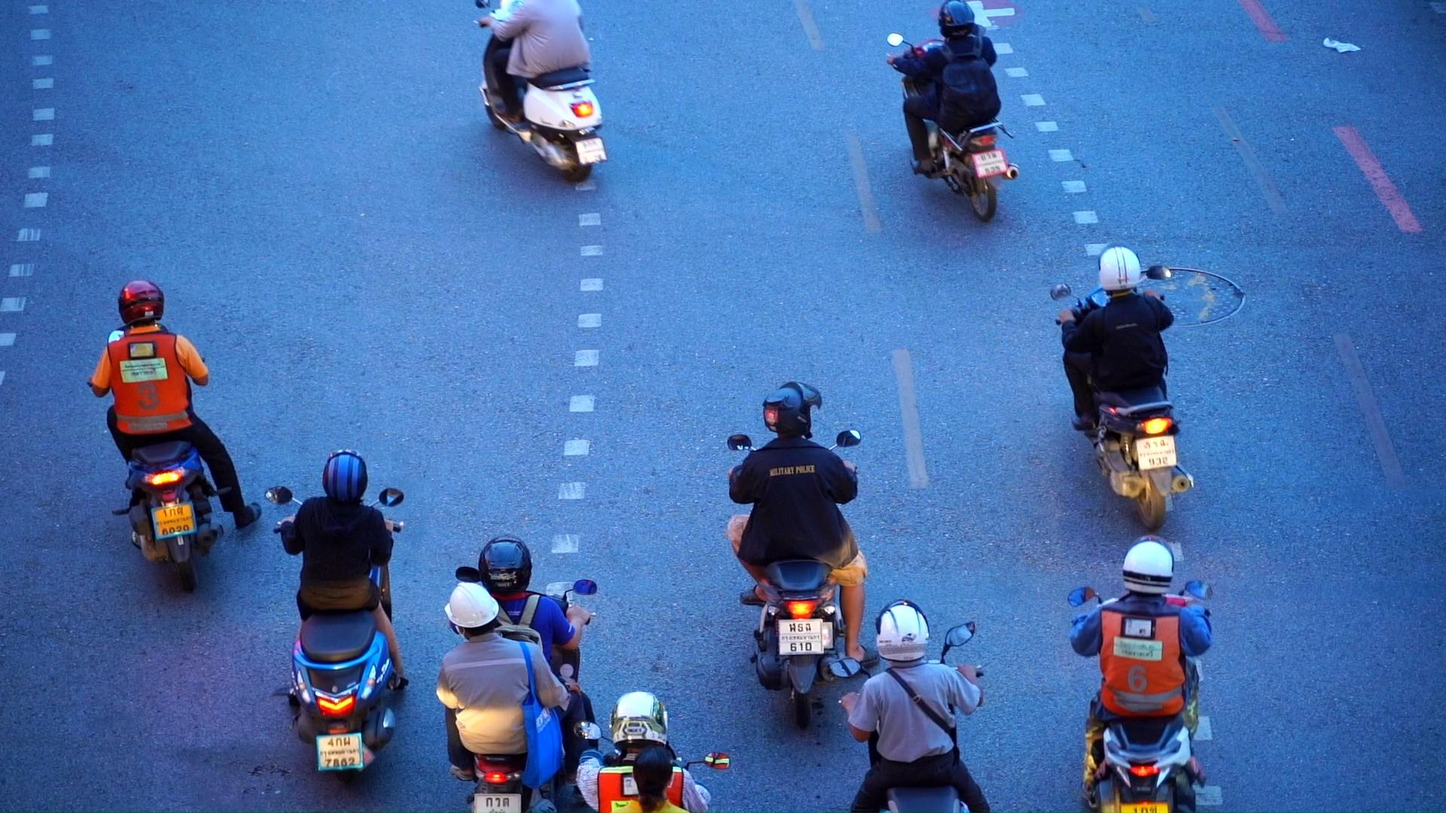driver: (87, 280, 263, 593), (727, 380, 881, 729), (264, 449, 410, 785), (435, 534, 597, 813), (1068, 534, 1218, 813), (1052, 243, 1196, 531), (828, 599, 992, 813), (886, 0, 1020, 222), (474, 0, 608, 182), (574, 692, 731, 813)
helmet: (762, 380, 822, 439), (875, 599, 930, 663), (611, 690, 668, 751), (478, 534, 532, 596), (444, 582, 500, 641), (1123, 534, 1174, 595), (323, 449, 368, 504), (119, 280, 165, 330), (1098, 243, 1141, 296), (938, 0, 975, 43)
no-helmet: (633, 745, 675, 813)
